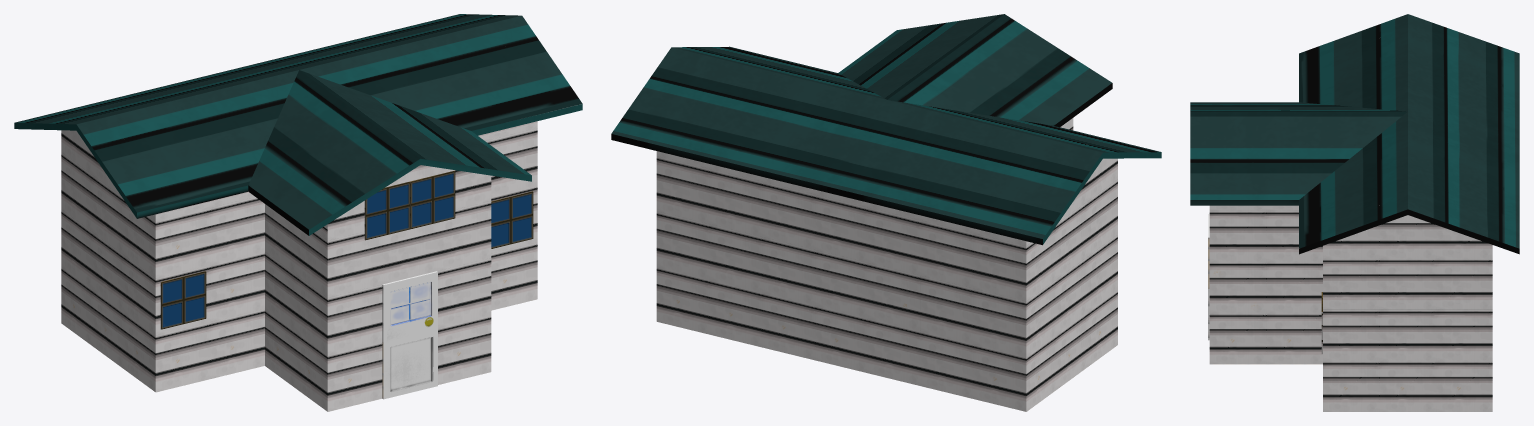
File: Houses_PierHouse2.fbx
3 views of the same model, side by side, from view 1: azimuth 30°, elevation 25°; view 2: azimuth 150°, elevation 25°; view 3: azimuth 270°, elevation 25° (orthographic). The views are drawn at different scales.
Visible parts, largest first — view 1: PierHouse2; view 2: PierHouse2; view 3: PierHouse2.
Part boxes in pixels (x1,y1,x2,y2): PierHouse2: (14, 14, 582, 411); PierHouse2: (611, 14, 1161, 411); PierHouse2: (1190, 14, 1519, 411).
Bounding box in the file's own units: 757 × 392 × 540.
1 material, 1 textured.
